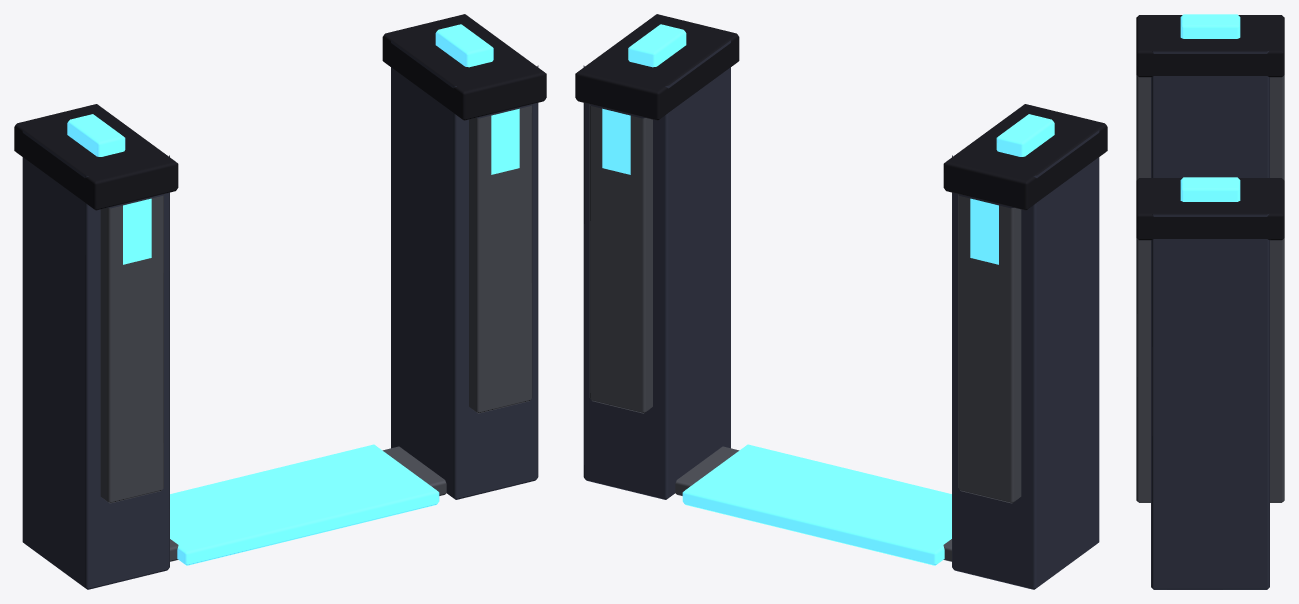
The model's file is int.door.standard.cut.glb.
3 views of the same model, side by side, from view 1: azimuth 30°, elevation 25°; view 2: azimuth 150°, elevation 25°; view 3: azimuth 270°, elevation 25° (orthographic). The views are drawn at different scales.
Parts seen in each view (by area): view 1: int.door.standard.cut; view 2: int.door.standard.cut; view 3: int.door.standard.cut.
Part boxes in pixels (x1,y1,x2,y2): int.door.standard.cut: (14, 14, 546, 589); int.door.standard.cut: (575, 14, 1107, 589); int.door.standard.cut: (1136, 14, 1284, 589).
Size of the model in its own units: 2 by 1.81 by 0.6255.
